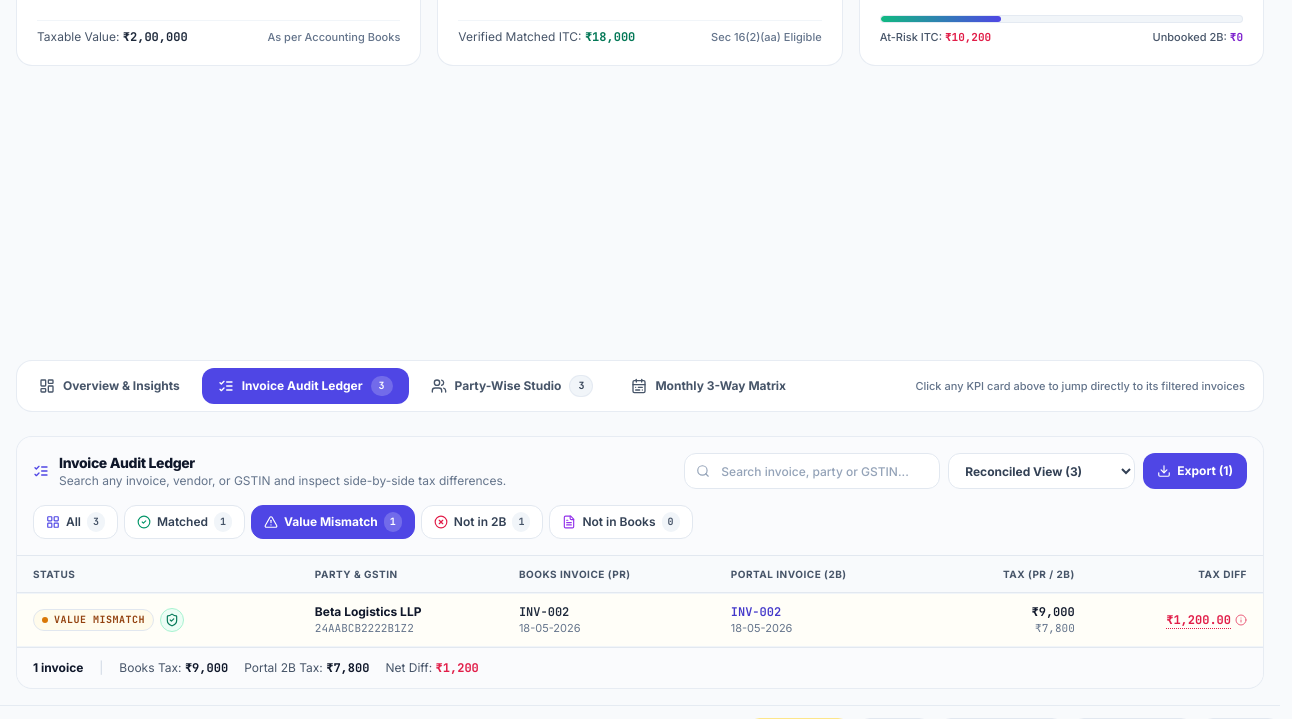
Step 4: SummaryCards, Reconciliation Dashboard & OutputDashboard UI › switches cleanly across Step 4 Dashboard workspace tabs and jumps from KPI card to filtered ledger
Earlier steps of the test are not shown.
(page scrolled)
Check: the text "Search any invoice, vendor, or GSTIN" is shown, box [59, 473, 506, 488]
Check: the text "1 invoice" is shown, box [33, 660, 83, 676]
Click the text "Party-Wise Studio".
click(508, 386)  # box [455, 378, 561, 394]
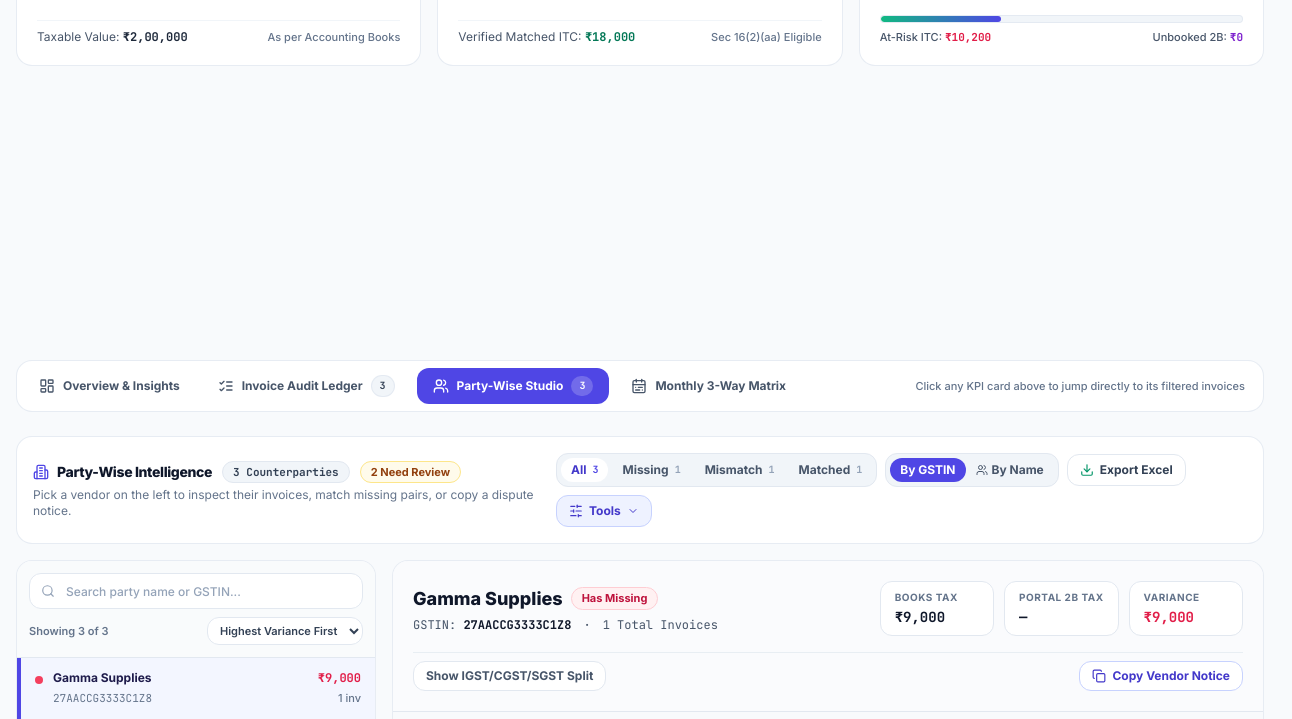
Check: the heading "Party-Wise Intelligence" is shown, box [33, 462, 212, 482]
Click the tab "Monthly 3-Way Matrix".
click(709, 386)  # box [615, 370, 802, 402]
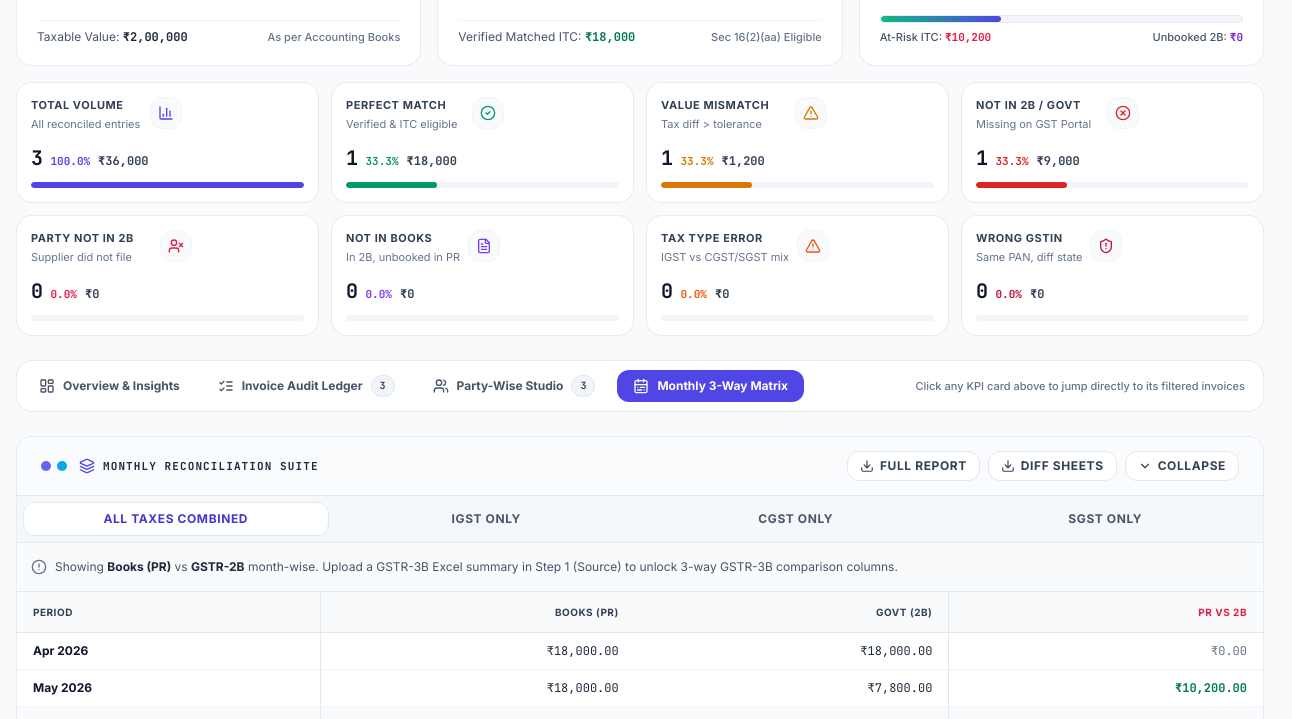
Check: the text "Monthly Reconciliation Suite" is shown, box [79, 458, 319, 474]
